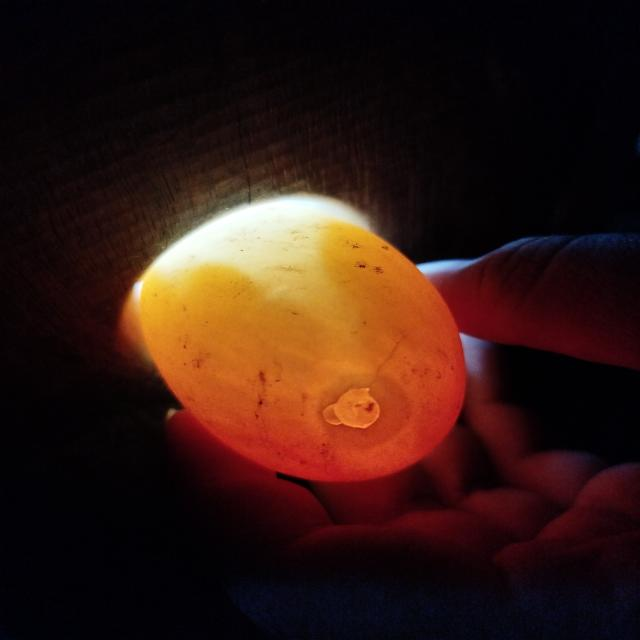Rachadura: (322, 388, 381, 429)
